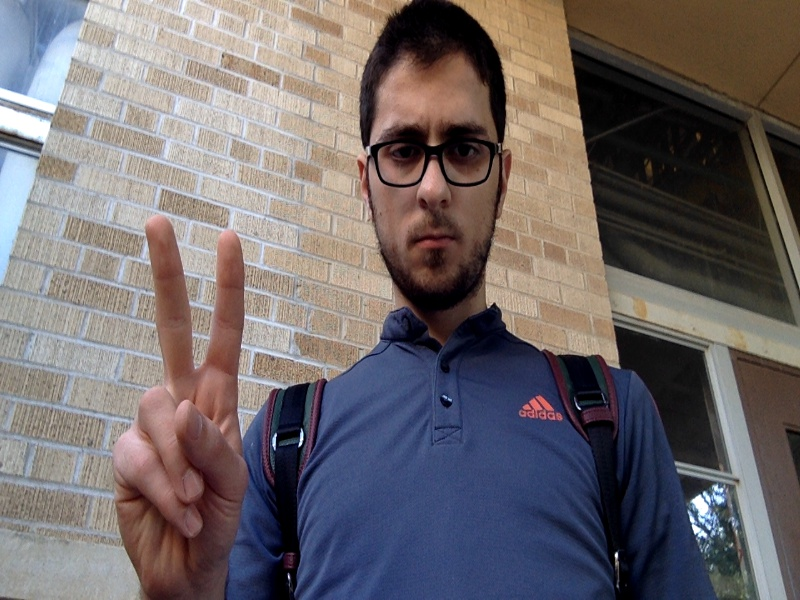2-hand: (112, 217, 245, 599)
